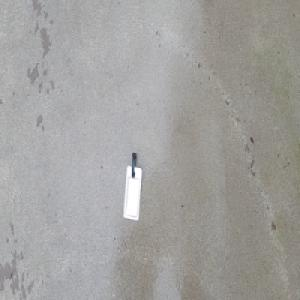LuggageTag: (121, 150, 141, 221)
